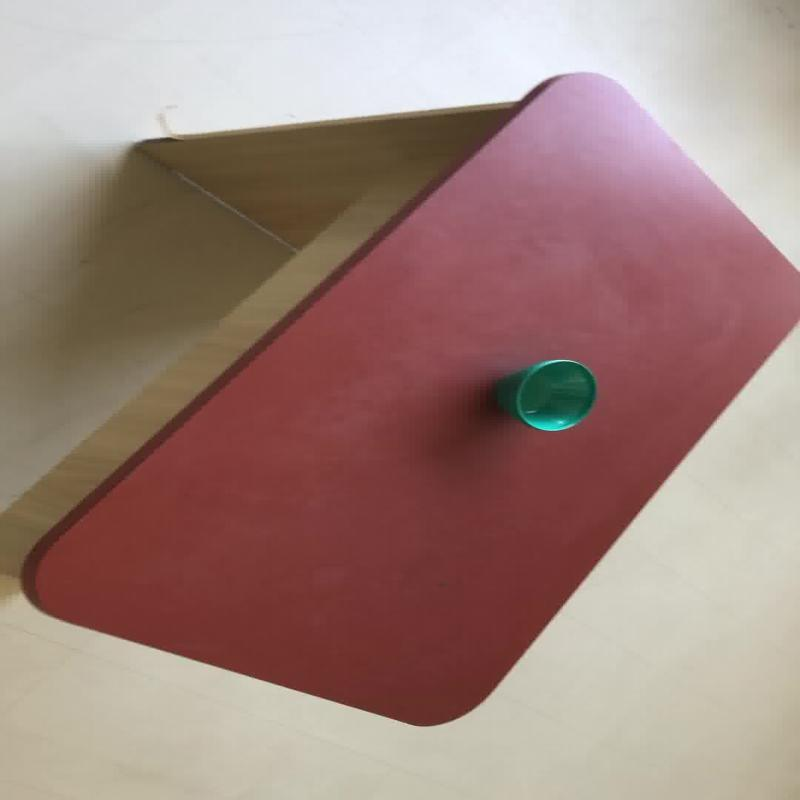bowl: (13, 69, 796, 726), (501, 358, 597, 431)
